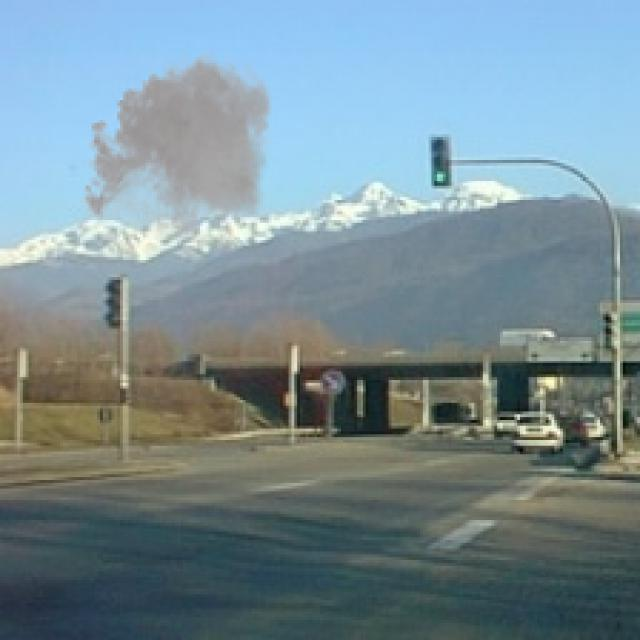smoke: (77, 46, 280, 251)
